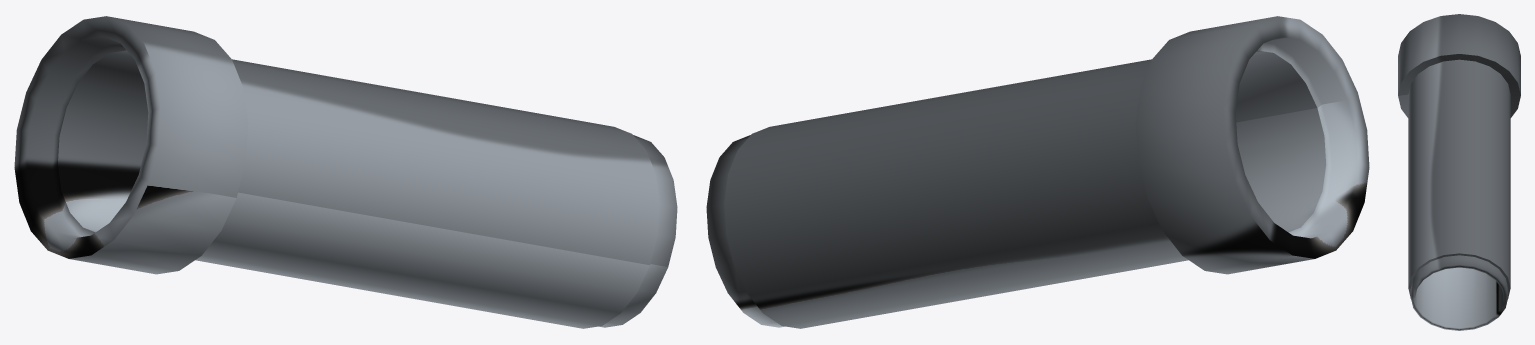
File: canomapa.fbx
The picture shows the model from 3 angles, left to right: view 1: azimuth 30°, elevation 25°; view 2: azimuth 150°, elevation 25°; view 3: azimuth 270°, elevation 25°; orthographic projection. The views are drawn at different scales.
Parts seen in each view (by area): view 1: Mapa terreno.001; view 2: Mapa terreno.001; view 3: Mapa terreno.001.
Part boxes in pixels (box(x1,y1,x2,y2)): Mapa terreno.001: box(14, 16, 677, 328); Mapa terreno.001: box(706, 16, 1369, 328); Mapa terreno.001: box(1398, 14, 1520, 330).
Size of the model in its own units: 2101 by 1361 by 742.
